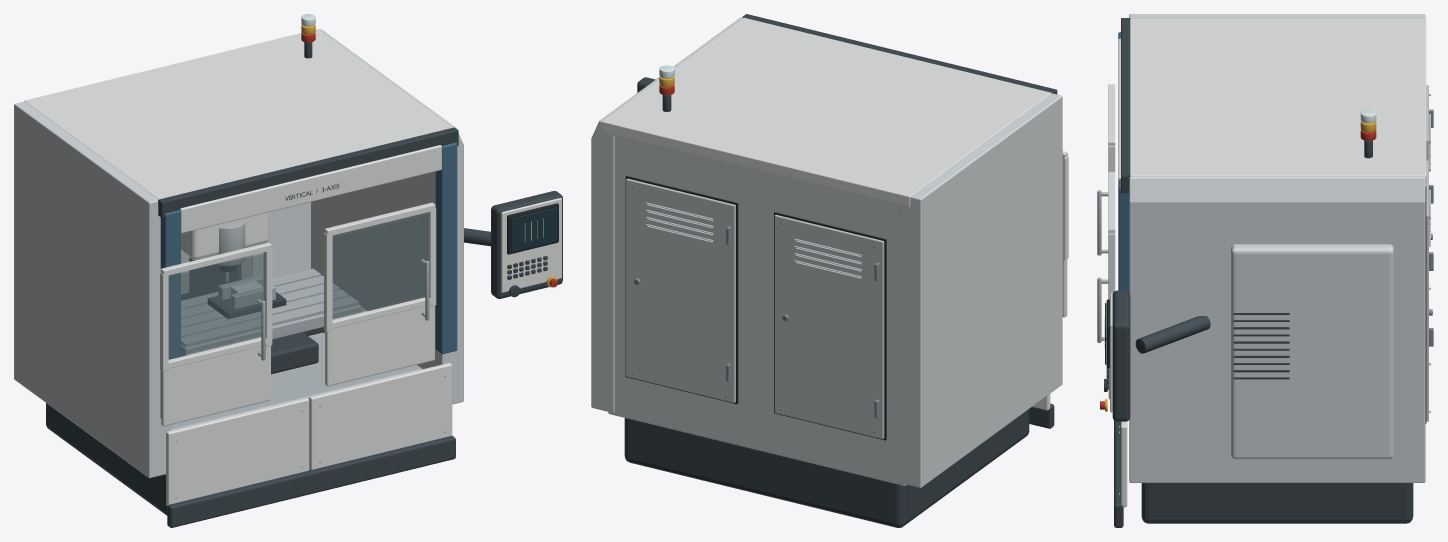
File: vmc.glb
The picture shows the model from 3 angles, left to right: view 1: azimuth 30°, elevation 25°; view 2: azimuth 150°, elevation 25°; view 3: azimuth 270°, elevation 25°; orthographic projection. The views are drawn at different scales.
Parts seen in each view (by area): view 1: VMC | sloped side casing, VMC | top enclosure, VMC | sloped side casing.001, VMC | lower access door, VMC | lower access door.001, VMC | safety glazing.001, VMC | safety glazing, VMC | front lower skirt, VMC | upper fascia, VMC | door lower panel, VMC | door lower panel.001, VMC | roof edge (+27 smaller); view 2: VMC | sloped side casing, VMC | top enclosure, VMC | rear service wall, VMC | service access door, VMC | service access door.001, VMC | cast base, VMC | sloped side casing.001, VMC | roof edge, VMC | service hatch gasket.001, VMC | service hatch gasket, VMC | door stile; view 3: VMC | sloped side casing.001, VMC | top enclosure, VMC | electrical enclosure, VMC | cast base, VMC | pendant, VMC | roof edge, VMC | sloped side casing, VMC | control arm, VMC | front jamb.001, VMC | front lower skirt, VMC | service access door.001, VMC | lower access door.001 (+5 smaller).
Boxes of the visible parts, <box> form: VMC | sloped side casing: <box>14,101,170,478</box>; VMC | top enclosure: <box>24,29,452,199</box>; VMC | sloped side casing.001: <box>311,29,463,404</box>; VMC | lower access door: <box>166,397,309,505</box>; VMC | lower access door.001: <box>309,363,452,469</box>; VMC | safety glazing.001: <box>332,213,428,318</box>; VMC | safety glazing: <box>168,253,264,358</box>; VMC | front lower skirt: <box>167,435,455,527</box>; VMC | upper fascia: <box>180,145,441,233</box>; VMC | door lower panel: <box>161,345,270,426</box>; VMC | door lower panel.001: <box>325,305,434,386</box>; VMC | roof edge: <box>158,127,458,217</box>; VMC | sloped side casing: <box>898,93,1062,487</box>; VMC | top enclosure: <box>601,17,1050,207</box>; VMC | rear service wall: <box>608,136,906,485</box>; VMC | service access door: <box>774,214,884,439</box>; VMC | service access door.001: <box>626,178,735,402</box>; VMC | cast base: <box>624,409,1029,527</box>; VMC | sloped side casing.001: <box>591,17,742,412</box>; VMC | roof edge: <box>742,14,1057,94</box>; VMC | service hatch gasket.001: <box>625,176,738,404</box>; VMC | service hatch gasket: <box>774,212,886,440</box>; VMC | door stile: <box>1062,156,1068,260</box>; VMC | sloped side casing.001: <box>1129,176,1425,482</box>; VMC | top enclosure: <box>1130,19,1426,186</box>; VMC | electrical enclosure: <box>1231,244,1393,459</box>; VMC | cast base: <box>1141,483,1413,523</box>; VMC | pendant: <box>1112,290,1130,421</box>; VMC | roof edge: <box>1121,18,1130,193</box>; VMC | sloped side casing: <box>1129,14,1425,18</box>; VMC | control arm: <box>1135,316,1210,353</box>; VMC | front jamb.001: <box>1118,179,1129,291</box>; VMC | front lower skirt: <box>1114,420,1123,527</box>; VMC | service access door.001: <box>1426,160,1428,421</box>; VMC | lower access door.001: <box>1121,421,1127,507</box>.
Bounding box in the file's own units: 2.94 × 2.54 × 1.92.
